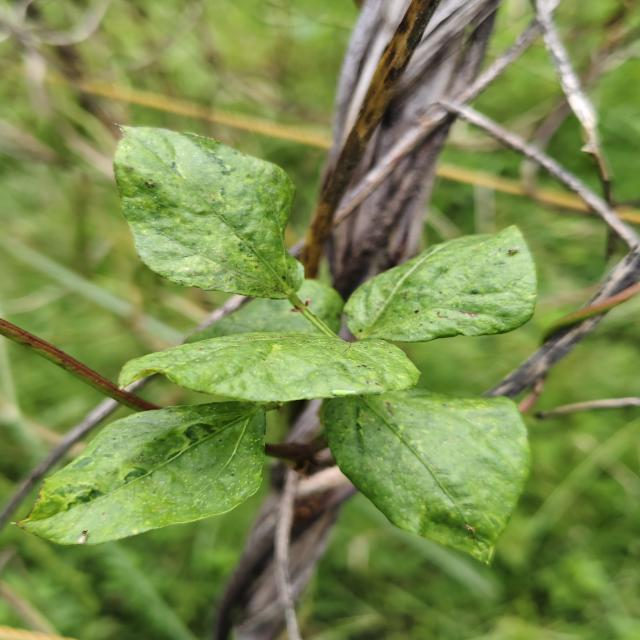leaf-low: (119, 280, 420, 406), (321, 387, 530, 563)
sitaw-aphid-high: (114, 127, 342, 335), (17, 401, 266, 544), (344, 226, 536, 342)
